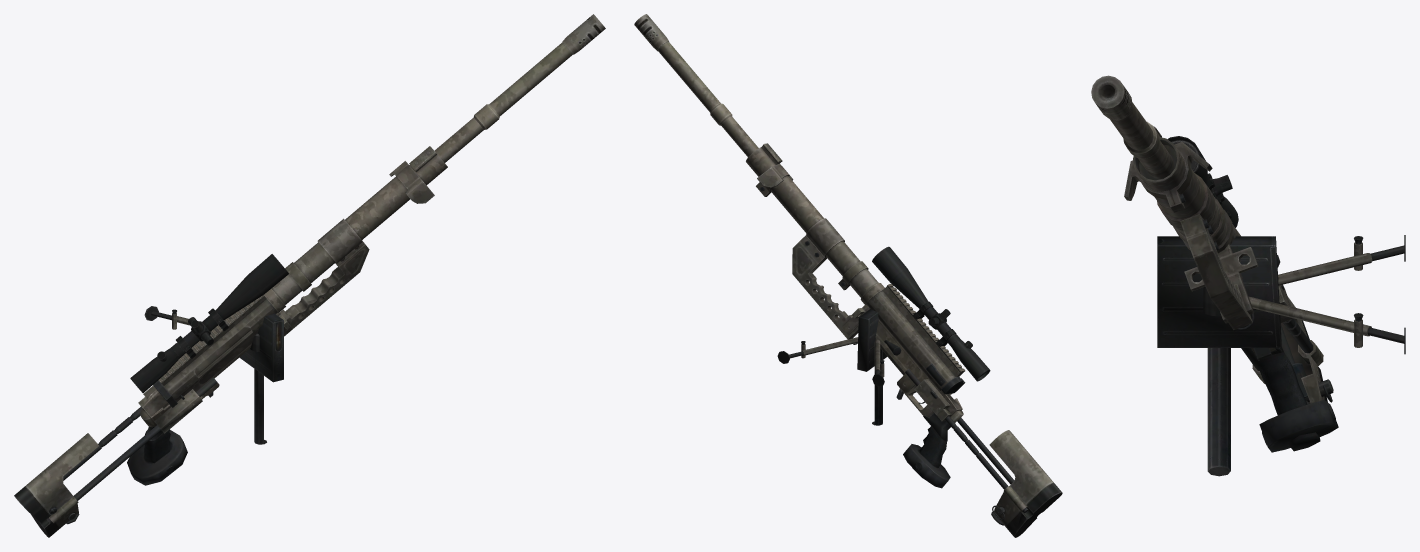
Rendered from Cheytac_M200_7th_Anniversary.obj.
The picture shows the model from 3 angles, left to right: view 1: azimuth 30°, elevation 25°; view 2: azimuth 150°, elevation 25°; view 3: azimuth 270°, elevation 25°; orthographic projection. The views are drawn at different scales.
Visible parts, largest first — view 1: CheyTac_M200, PSG-1, Model_Magazine, Model_Handle; view 2: CheyTac_M200, PSG-1, Model_Magazine, Model_CheytacM200_Bipod01, Model_Handle; view 3: CheyTac_M200, Model_Magazine, Model_Handle, Model_CheytacM200_Bipod01, Model_CheytacM200_Bipod02, PSG-1.
Part boxes in pixels (bbox=[...]): CheyTac_M200: bbox=[14, 14, 605, 537]; PSG-1: bbox=[130, 254, 288, 392]; Model_Magazine: bbox=[239, 313, 283, 382]; Model_Handle: bbox=[250, 333, 266, 444]; CheyTac_M200: bbox=[634, 14, 1062, 537]; PSG-1: bbox=[872, 246, 990, 381]; Model_Magazine: bbox=[857, 309, 887, 371]; Model_CheytacM200_Bipod01: bbox=[777, 337, 858, 363]; Model_Handle: bbox=[872, 340, 901, 425]; CheyTac_M200: bbox=[1091, 75, 1338, 452]; Model_Magazine: bbox=[1157, 236, 1281, 347]; Model_Handle: bbox=[1203, 255, 1280, 476]; Model_CheytacM200_Bipod01: bbox=[1248, 296, 1405, 354]; Model_CheytacM200_Bipod02: bbox=[1278, 235, 1405, 285]; PSG-1: bbox=[1167, 136, 1238, 227].
Bounding box in the file's own units: 1.14 × 0.8982 × 0.3342.
2 materials, 2 textured.
